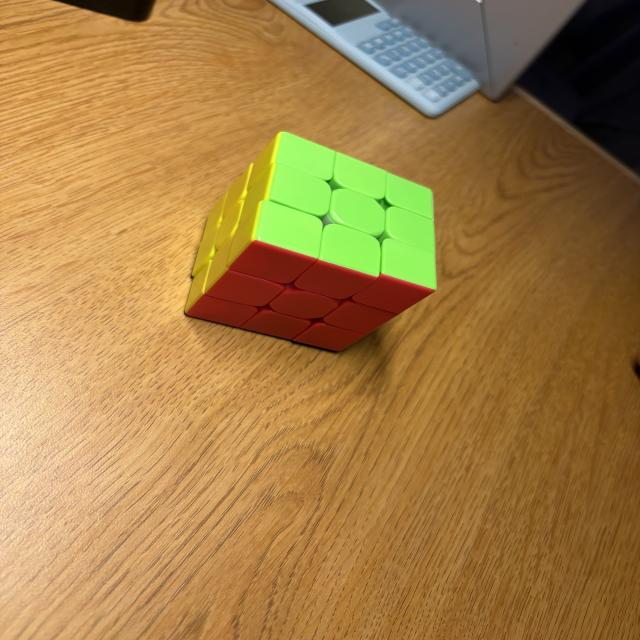Rubiks Cube: (183, 130, 436, 355)
